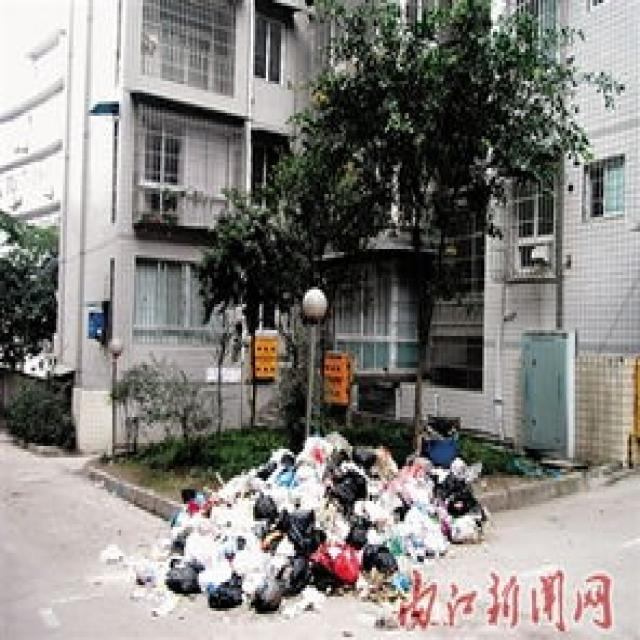garbage: (162, 429, 489, 611)
